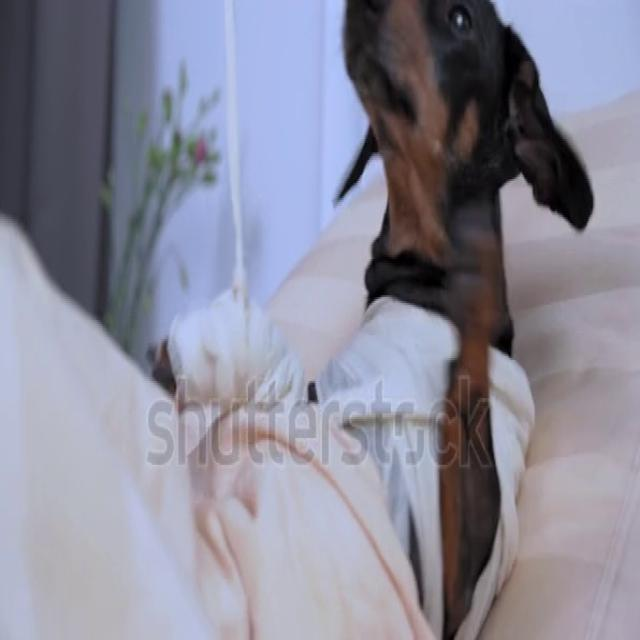injured-animals: (146, 29, 590, 613)
